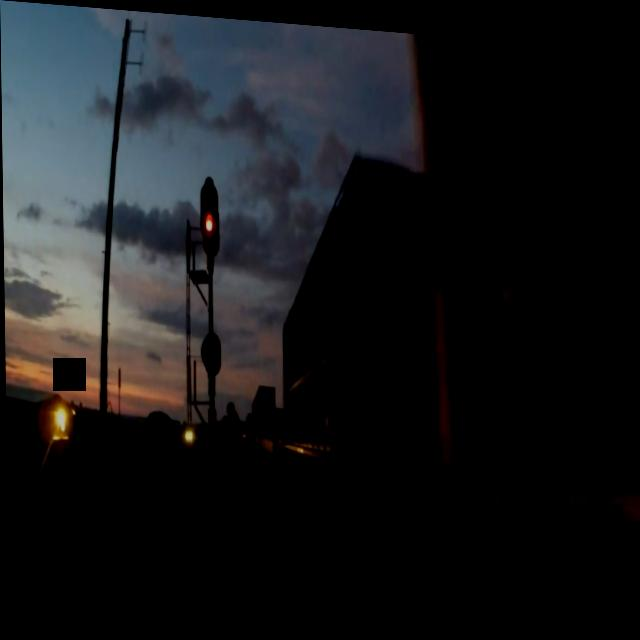container: (404, 26, 640, 304), (271, 132, 422, 413), (275, 314, 431, 462)
